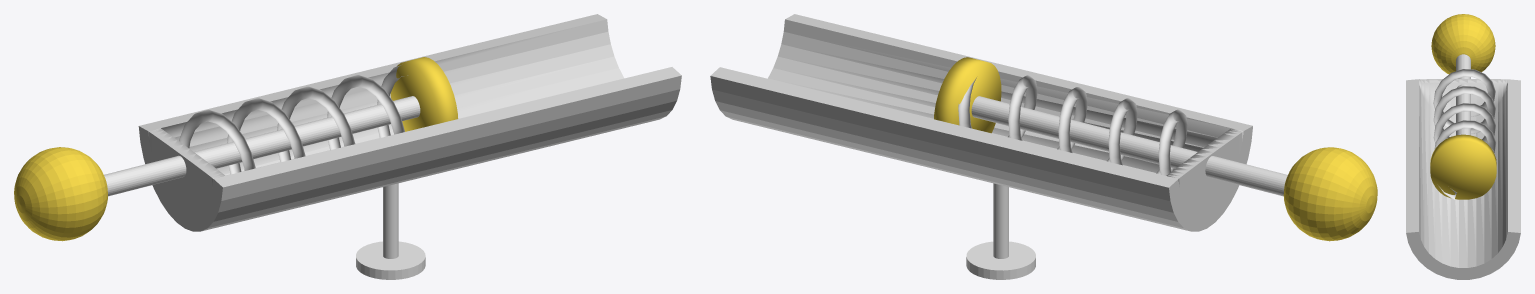
Rendered from start_kleur.glb.
The picture shows the model from 3 angles, left to right: view 1: azimuth 30°, elevation 25°; view 2: azimuth 150°, elevation 25°; view 3: azimuth 270°, elevation 25°; orthographic projection. The views are drawn at different scales.
Parts seen in each view (by area): view 1: tray, handleSphere, spring open, handleStick, disc, baseDisc, baseStick; view 2: tray, handleSphere, handleStick, spring open, disc, baseDisc, baseStick; view 3: tray, disc, spring open, handleSphere, handleStick.
Boxes of the visible parts, bbox=[...] form: tray: bbox=[138, 14, 681, 231]; handleSphere: bbox=[14, 147, 107, 241]; spring open: bbox=[179, 65, 407, 174]; handleStick: bbox=[104, 96, 420, 196]; disc: bbox=[390, 57, 458, 131]; baseDisc: bbox=[356, 241, 425, 279]; baseStick: bbox=[383, 183, 398, 258]; tray: bbox=[710, 14, 1252, 231]; handleSphere: bbox=[1283, 147, 1377, 241]; handleStick: bbox=[971, 96, 1287, 196]; spring open: bbox=[958, 75, 1187, 175]; disc: bbox=[934, 57, 1001, 133]; baseDisc: bbox=[966, 241, 1035, 279]; baseStick: bbox=[993, 183, 1008, 258]; tray: bbox=[1406, 79, 1520, 279]; disc: bbox=[1430, 134, 1496, 199]; spring open: bbox=[1433, 69, 1496, 200]; handleSphere: bbox=[1431, 14, 1495, 74]; handleStick: bbox=[1456, 54, 1470, 135].
Bounding box in the file's own units: 0.9424 × 0.2826 × 0.2222.
